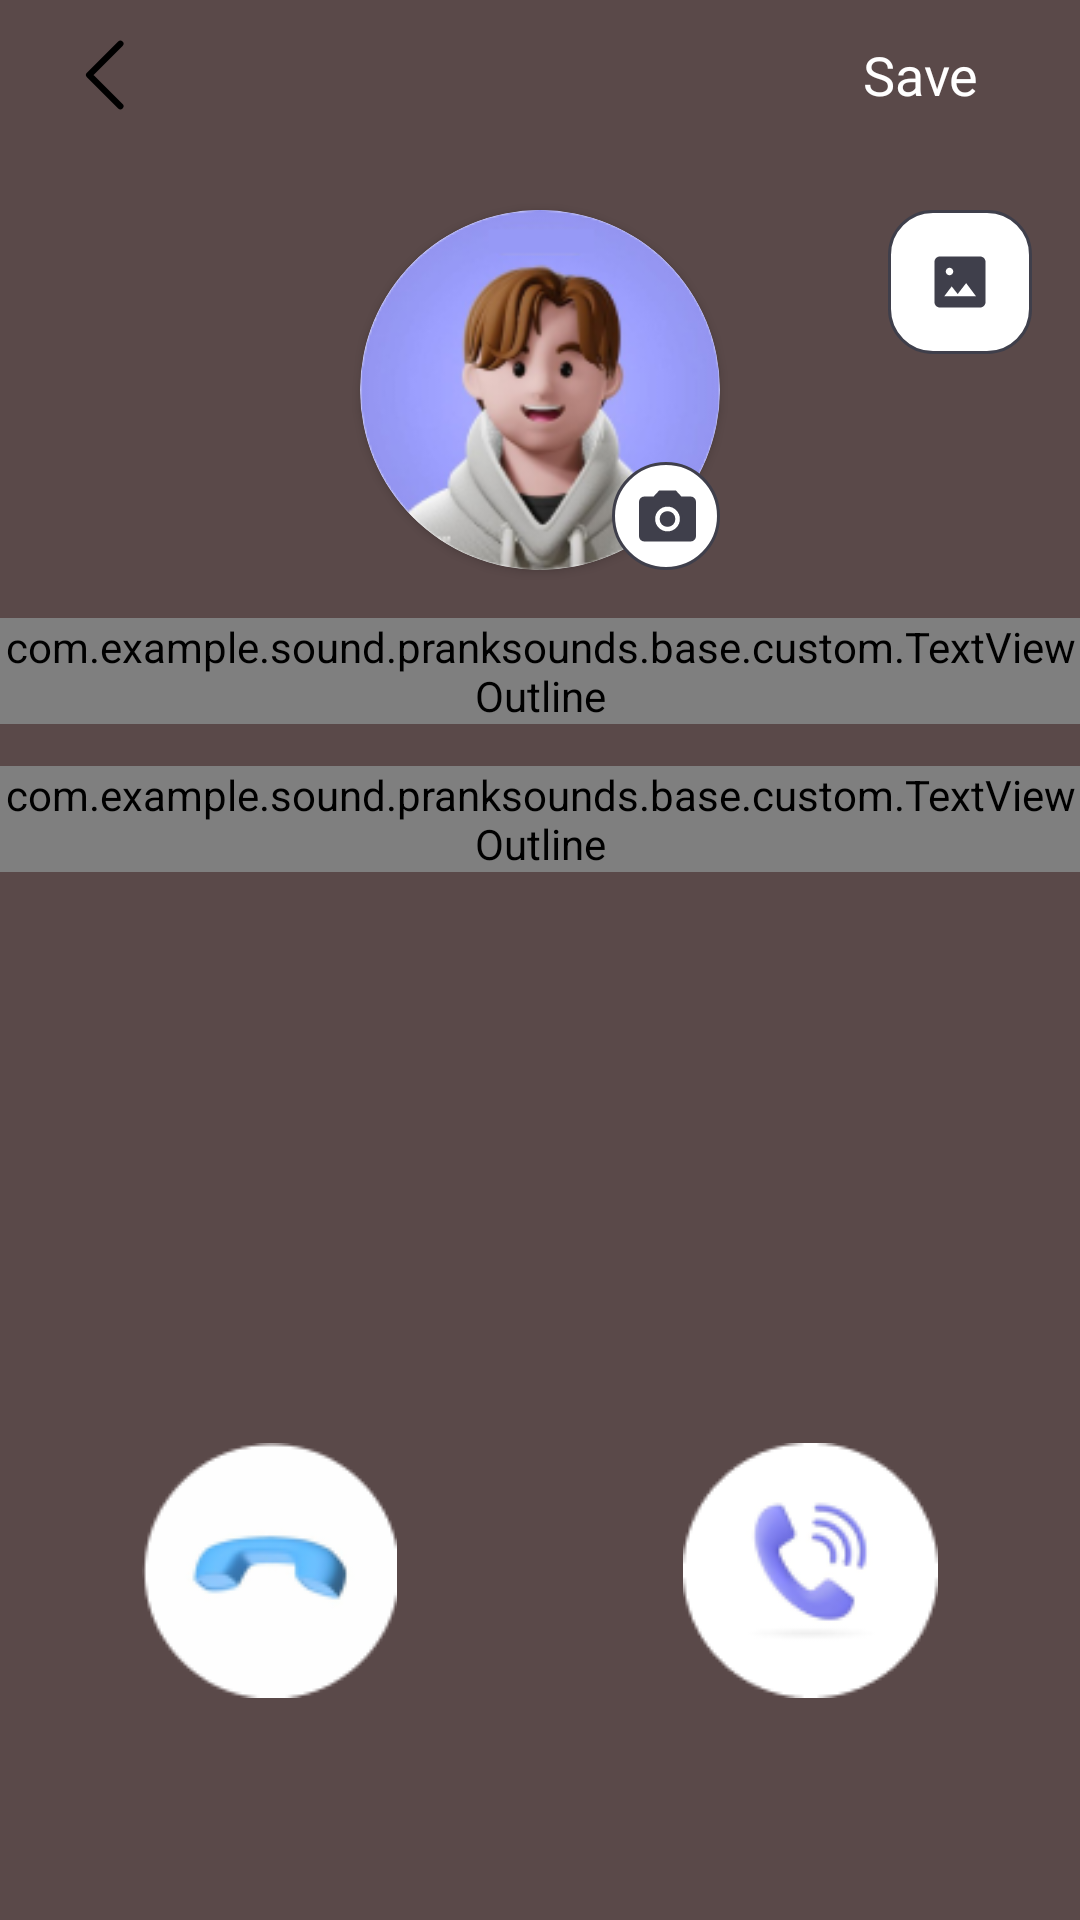

Locate icon controls on the screen. Image size 1080w x 1920h, boxes as (x1, y1, x2, y2).
avater: (360, 210, 720, 570)
back: (86, 40, 124, 110)
call: (144, 1443, 397, 1698), (683, 1443, 938, 1698)
